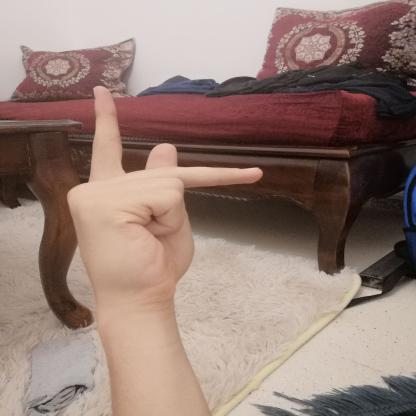DHAA: (48, 74, 275, 316)
